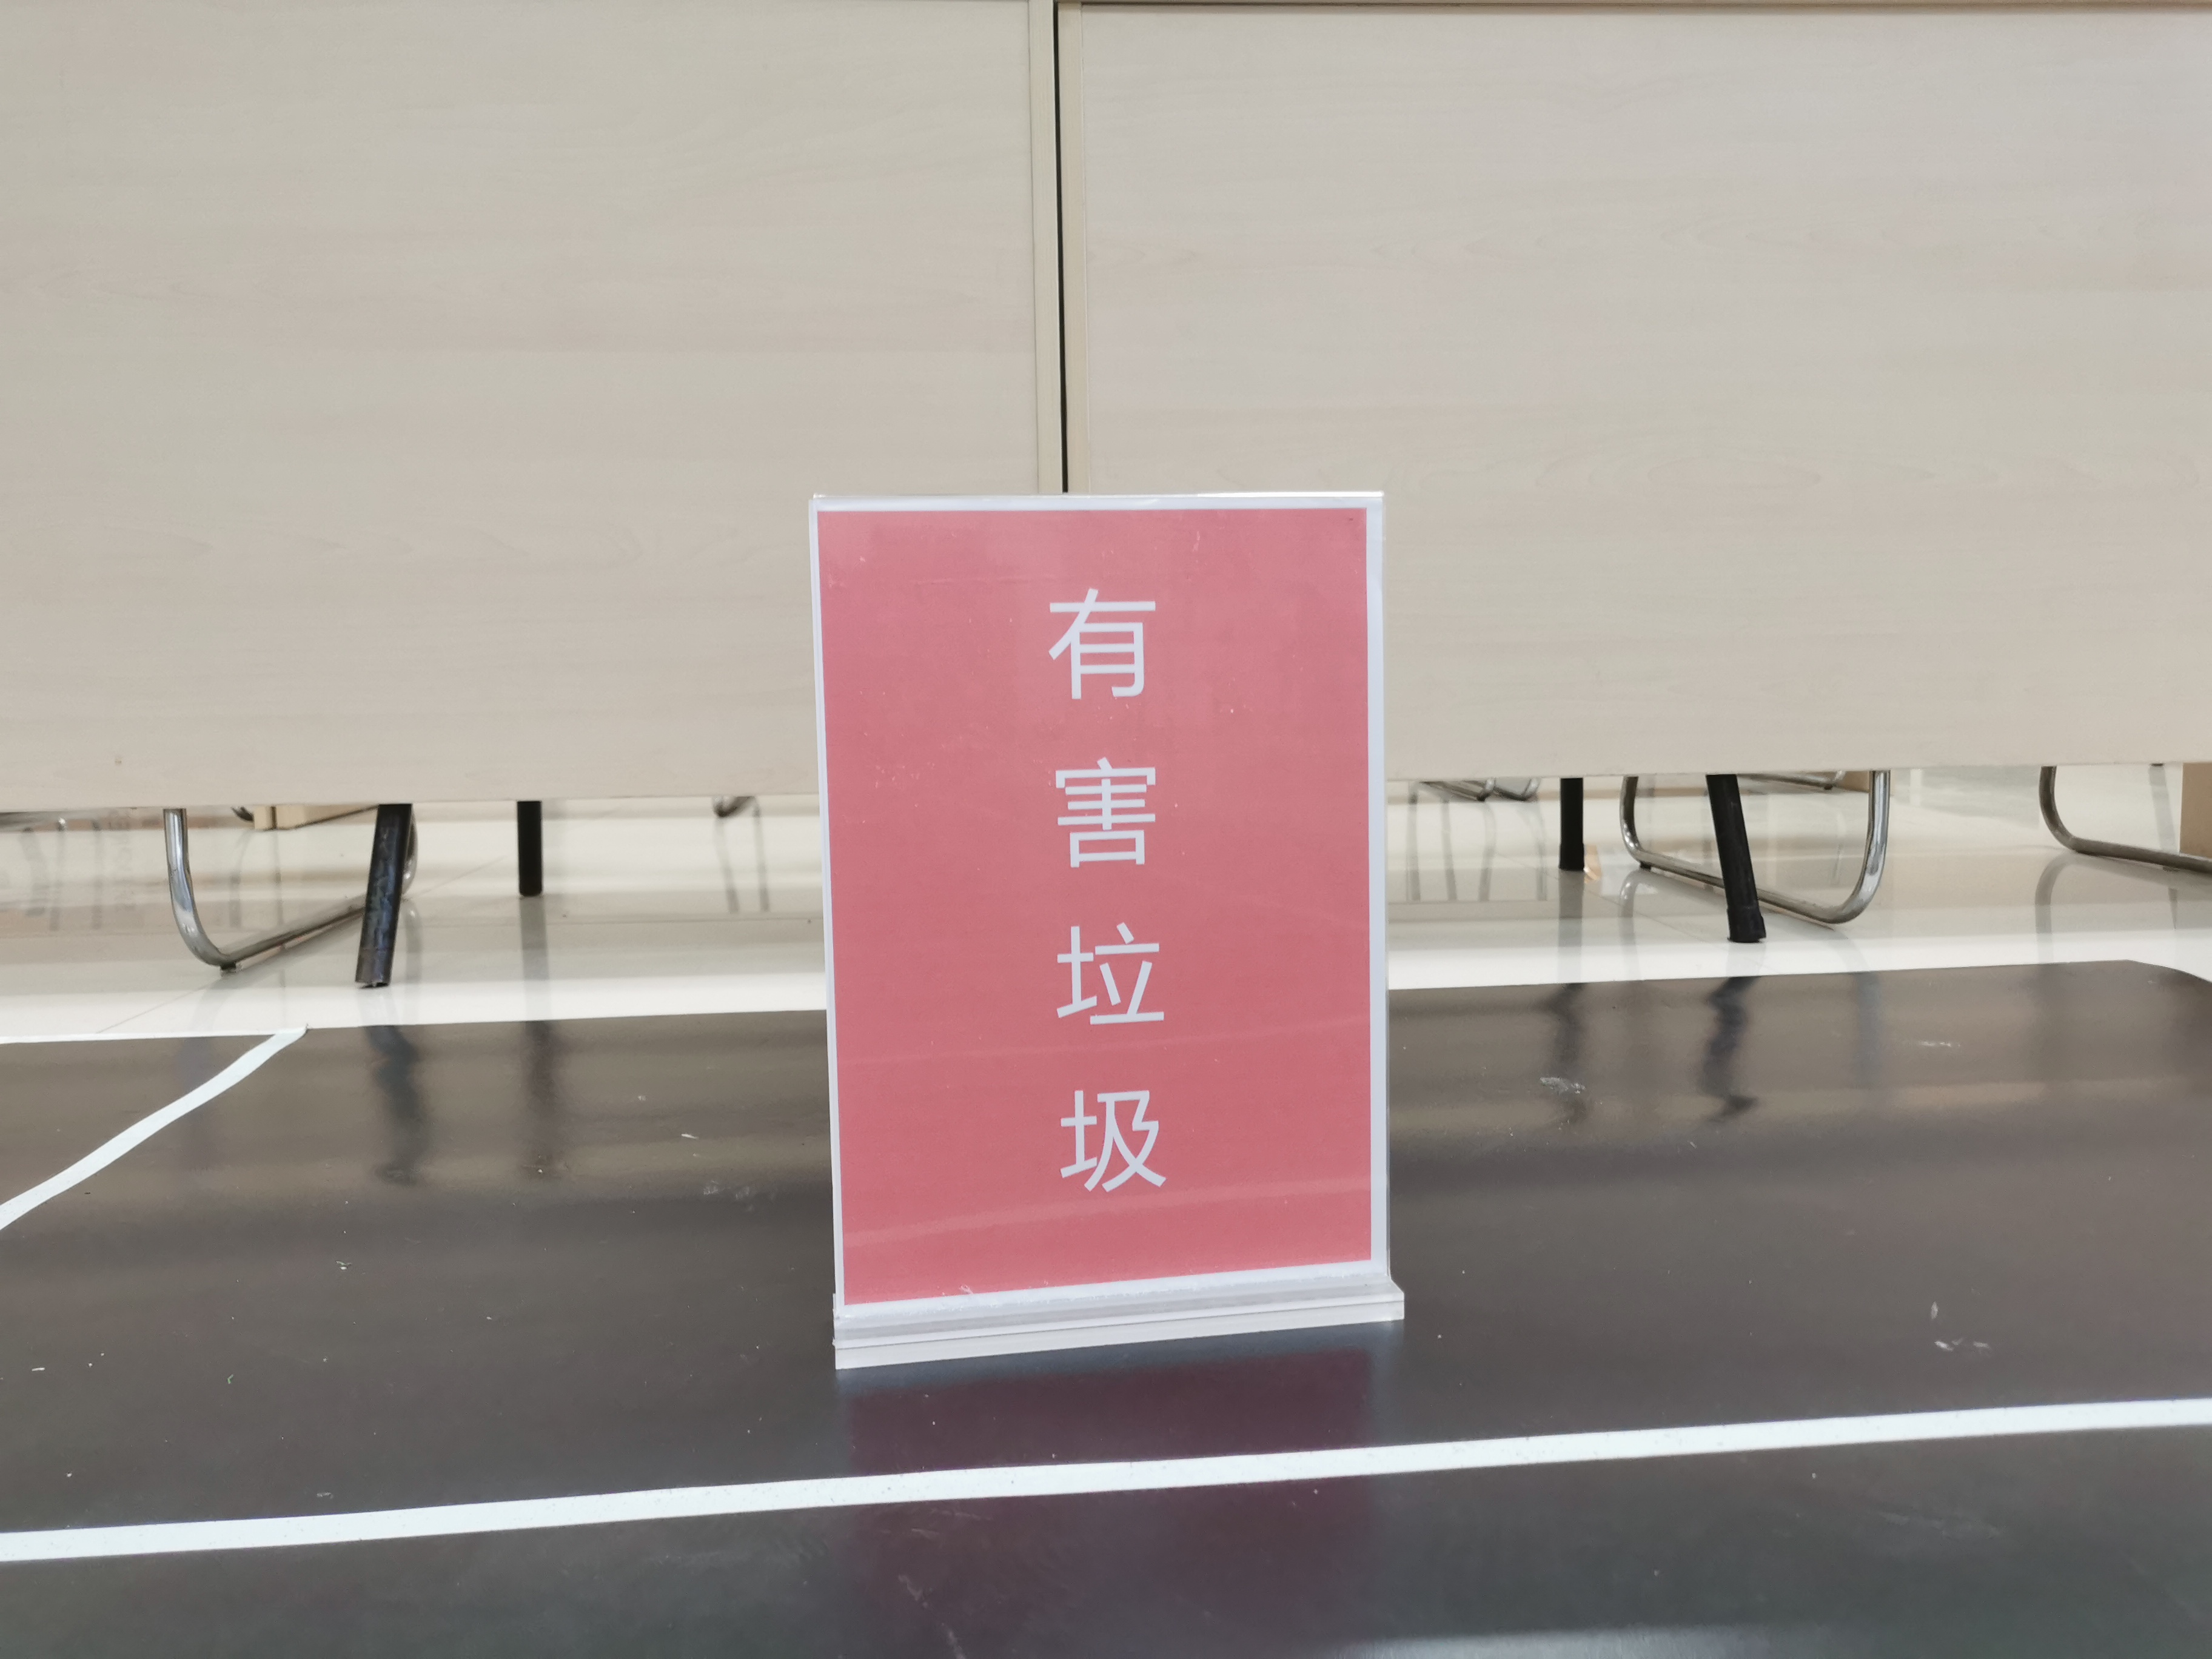red: (852, 514, 1372, 1258)
